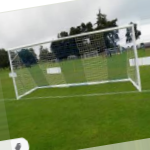goals: (5, 23, 145, 101)
